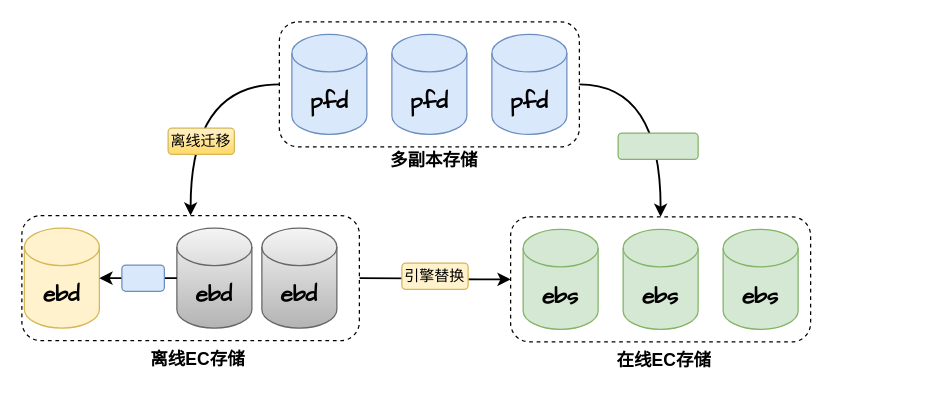
Some shapes in this 933 by 401 pixel diagram are drawn without their labels. Each missing label, with the centre of its shape:
"EC存储" goes at [657,145].
"下线" goes at [142,277].
